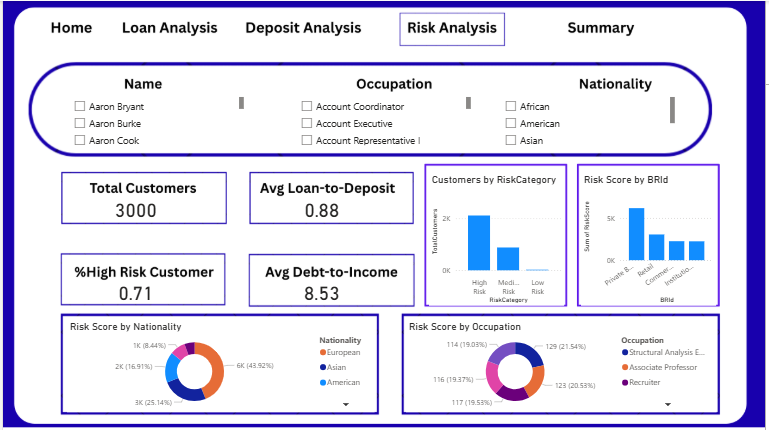

What the dashboard file says about the page in this screenshot:
{"tool":"powerbi","page":{"name":"Risk Analysis","canvas":[1280,720],"ordinal":3},"visuals":[{"type":"slicer","fields":{"Values":["Clients - Banking.Name"]},"box":[107.5,156.2,302.4,90.7],"z":0},{"type":"slicer","fields":{"Values":["Clients - Banking.Occupation"]},"box":[488.8,156.2,302.4,90.7],"z":1},{"type":"slicer","fields":{"Values":["Clients - Banking.Nationality"]},"box":[831.5,156.2,302.4,90.7],"z":2},{"type":"card","fields":{"Values":["Clients - Banking.TotalCustomers"]},"box":[136.1,334.3,174.7,50.4],"z":3},{"type":"card","fields":{"Values":["Clients - Banking.PercentHighRisk"]},"box":[136.1,473.7,174.7,50.4],"z":4},{"type":"card","fields":{"Values":["Clients - Banking.LoanToDeposit"]},"box":[448.5,334.3,174.7,50.4],"z":5},{"type":"card","fields":{"Values":["Clients - Banking.DebtToIncome"]},"box":[448.5,473.7,174.7,50.4],"z":6},{"type":"clusteredColumnChart","title":"Customers by RiskCategory","fields":{"Category":["Clients - Banking.RiskCategory"],"Y":["Clients - Banking.TotalCustomers"]},"box":[715.6,288.9,226.8,223.4],"z":7},{"type":"donutChart","title":" Risk Score by Nationality","fields":{"Category":["Clients - Banking.Nationality"],"Y":["Sum(Clients - Banking.RiskScore)"]},"box":[107.5,535.9,515.7,154.5],"z":8},{"type":"donutChart","title":" Risk Score by Occupation","fields":{"Y":["Sum(Clients - Banking.RiskScore)"],"Category":["Clients - Banking.Occupation"]},"box":[677,535.9,520.7,154.5],"z":9},{"type":"clusteredColumnChart","title":" Risk Score by BRId","fields":{"Y":["Sum(Clients - Banking.RiskScore)"],"Category":["Clients - Banking.BRId"]},"box":[970.9,288.9,226.8,223.4],"z":10},{"type":"actionButton","box":[62.4,25.5,100.6,52.4],"z":11},{"type":"actionButton","box":[188.1,25.2,178.1,52.1],"z":12},{"type":"actionButton","box":[67.2,25.2,90.7,52.1],"z":13},{"type":"actionButton","box":[399.8,25.2,208.3,52.1],"z":14},{"type":"actionButton","box":[925.6,25.2,178.1,52.1],"z":15}]}

Visuals, with their boxes in screenshot pixels (x1, y1, x2, y2), scaled from the page's 1280x720 canvas onto the 769x430 screenshot:
slicer - Clients - Banking.Name: bbox=(65, 93, 246, 147)
slicer - Clients - Banking.Occupation: bbox=(294, 93, 475, 147)
slicer - Clients - Banking.Nationality: bbox=(500, 93, 681, 147)
card - Clients - Banking.TotalCustomers: bbox=(82, 200, 187, 230)
card - Clients - Banking.PercentHighRisk: bbox=(82, 283, 187, 313)
card - Clients - Banking.LoanToDeposit: bbox=(269, 200, 374, 230)
card - Clients - Banking.DebtToIncome: bbox=(269, 283, 374, 313)
"Customers by RiskCategory" clusteredColumnChart: bbox=(430, 173, 566, 306)
" Risk Score by Nationality" donutChart: bbox=(65, 320, 374, 412)
" Risk Score by Occupation" donutChart: bbox=(407, 320, 720, 412)
" Risk Score by BRId" clusteredColumnChart: bbox=(583, 173, 720, 306)
actionButton: bbox=(37, 15, 98, 47)
actionButton: bbox=(113, 15, 220, 46)
actionButton: bbox=(40, 15, 95, 46)
actionButton: bbox=(240, 15, 365, 46)
actionButton: bbox=(556, 15, 663, 46)
